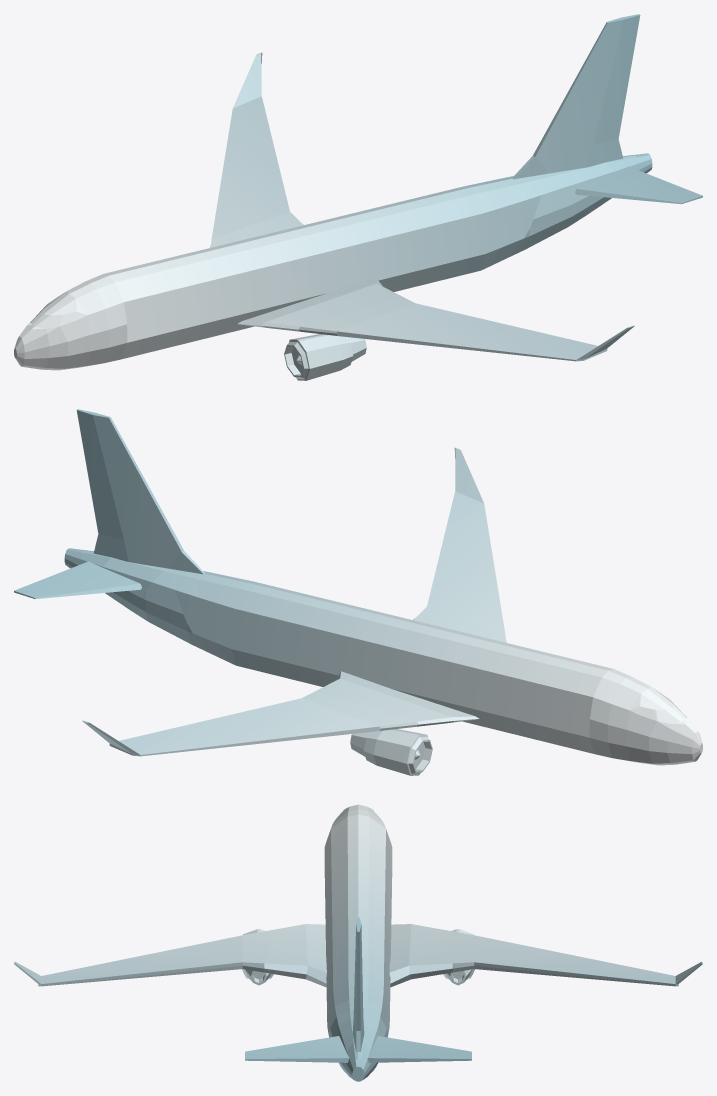
File: SM_Airplane.fbx
The picture shows the model from 3 angles, top to bottom: view 1: azimuth 30°, elevation 25°; view 2: azimuth 150°, elevation 25°; view 3: azimuth 270°, elevation 25°; orthographic projection. The views are drawn at different scales.
Visible parts, largest first — view 1: SM_Airplane; view 2: SM_Airplane; view 3: SM_Airplane.
Boxes of the visible parts, x1=… form: SM_Airplane: x1=14, y1=14, x2=702, y2=380; SM_Airplane: x1=14, y1=409, x2=702, y2=775; SM_Airplane: x1=14, y1=804, x2=702, y2=1081.
Bounding box in the file's own units: 401 × 139 × 409.
